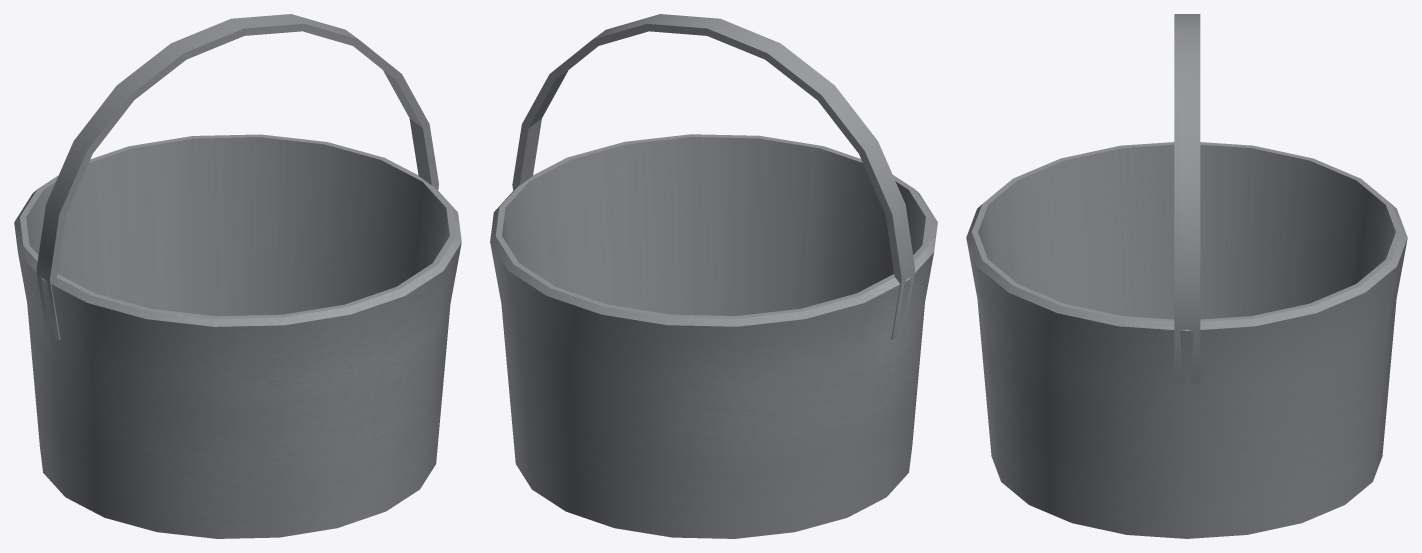
Rendered from pot_2.fbx.
3 renders of one model, left to right at view 1: azimuth 30°, elevation 25°; view 2: azimuth 150°, elevation 25°; view 3: azimuth 270°, elevation 25°, orthographic.
Visible parts, largest first — view 1: pot_2; view 2: pot_2; view 3: pot_2.
Part boxes in pixels (box(x1,y1,x2,y2)): pot_2: box(14, 14, 461, 538); pot_2: box(490, 14, 937, 538); pot_2: box(966, 14, 1407, 538).
Size of the model in its own units: 25.3 by 26.77 by 25.3.
